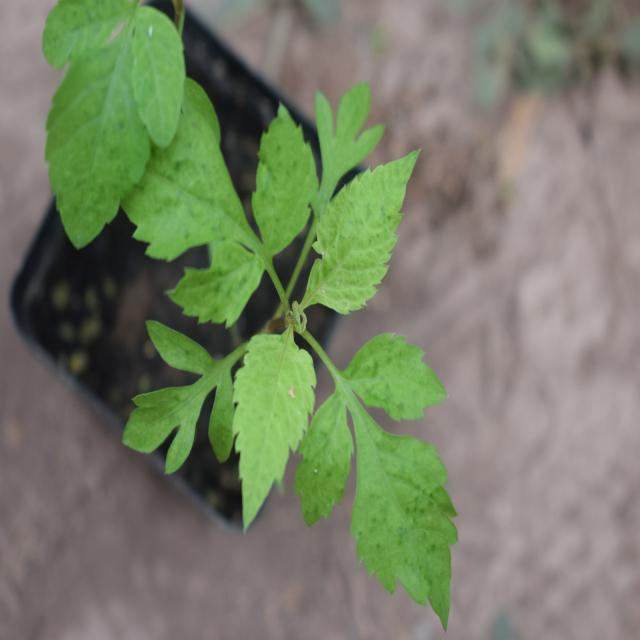Bidens pilosa: (134, 72, 460, 613)
